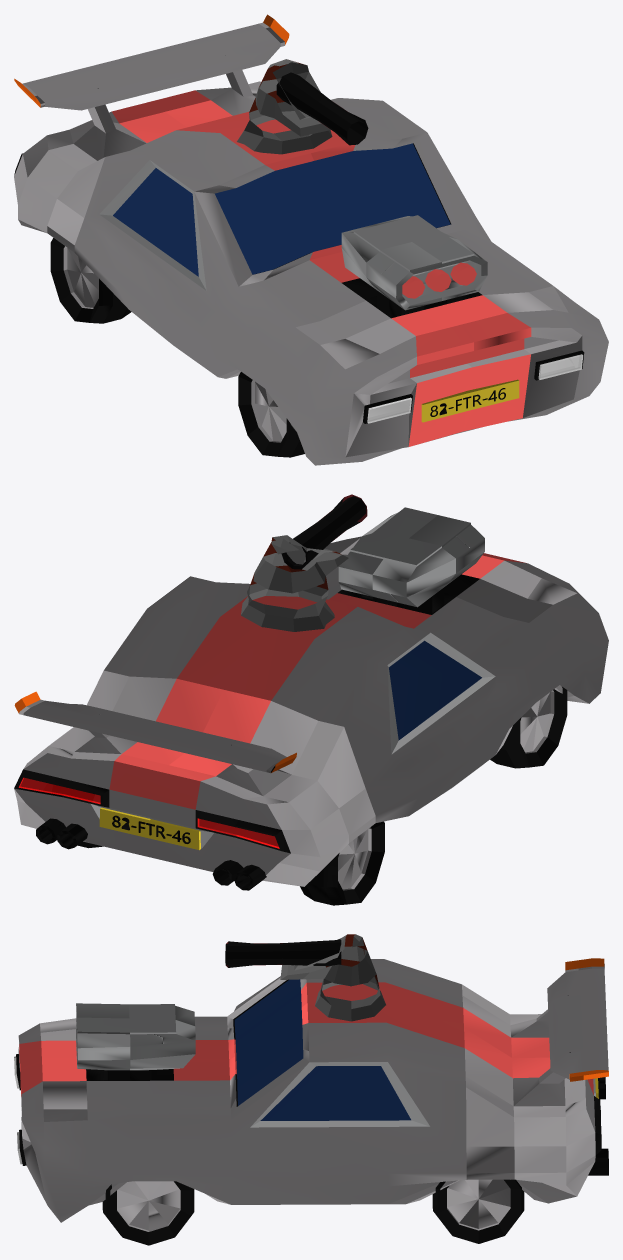
The model's file is Enemy Kart.fbx.
3 renders of one model, top to bottom at view 1: azimuth 30°, elevation 25°; view 2: azimuth 150°, elevation 25°; view 3: azimuth 270°, elevation 25°, orthographic. The views are drawn at different scales.
Parts seen in each view (by area): view 1: car; view 2: car; view 3: car.
Boxes of the visible parts, box(x1,y1,x2,y2) form: car: box(14, 14, 608, 465); car: box(14, 494, 608, 905); car: box(14, 934, 608, 1245).
Bounding box in the file's own units: 263 × 232 × 499.
